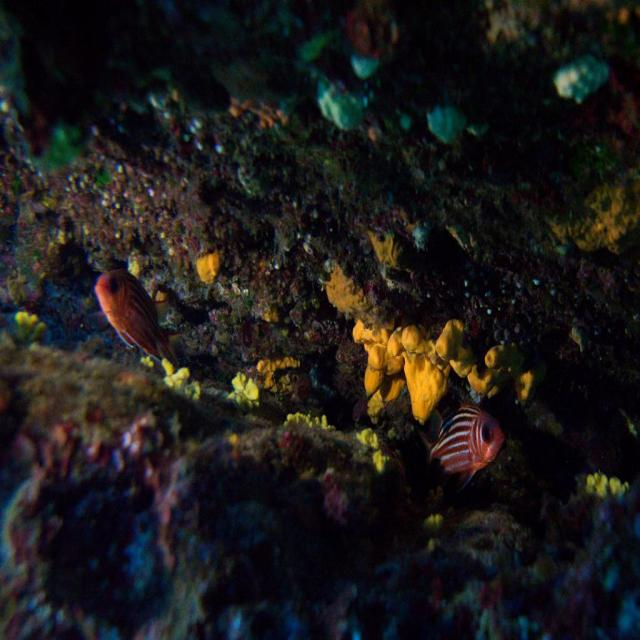Asker Baligi: (92, 266, 182, 372), (421, 401, 506, 491)
